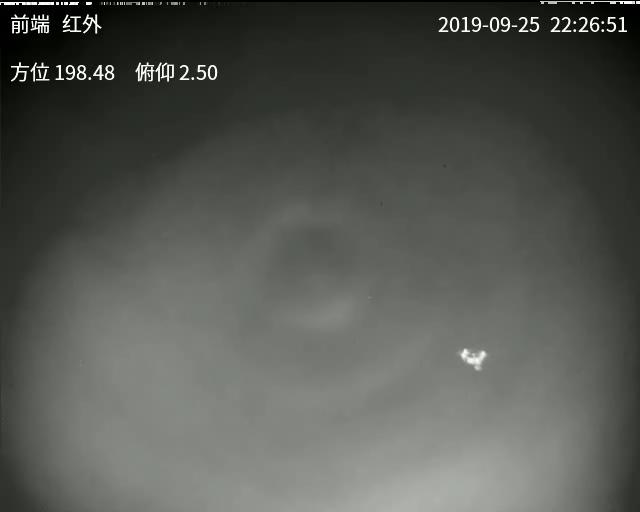uav: (454, 345, 491, 376)
